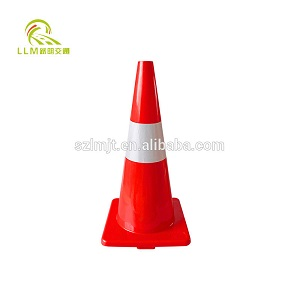traffic cone: (100, 60, 191, 249)
